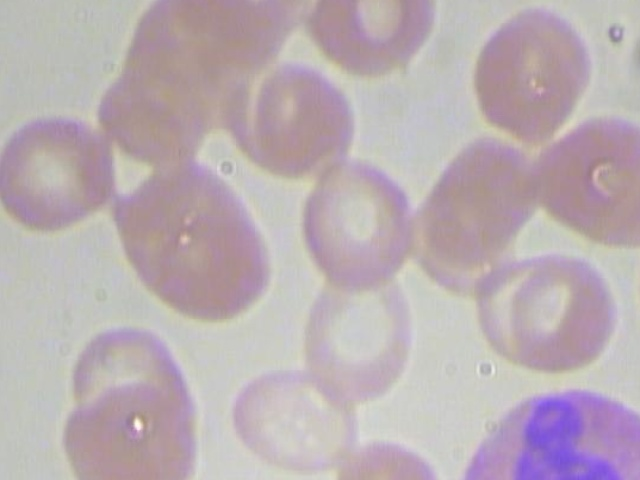RBC: (109, 152, 277, 330), (292, 254, 421, 412), (463, 1, 600, 146), (522, 108, 640, 261), (288, 156, 419, 292), (231, 48, 363, 182), (219, 356, 362, 474), (0, 102, 118, 235), (503, 249, 623, 376), (306, 0, 438, 83), (318, 429, 462, 480), (633, 228, 640, 368)
WBC: (441, 385, 640, 480)
